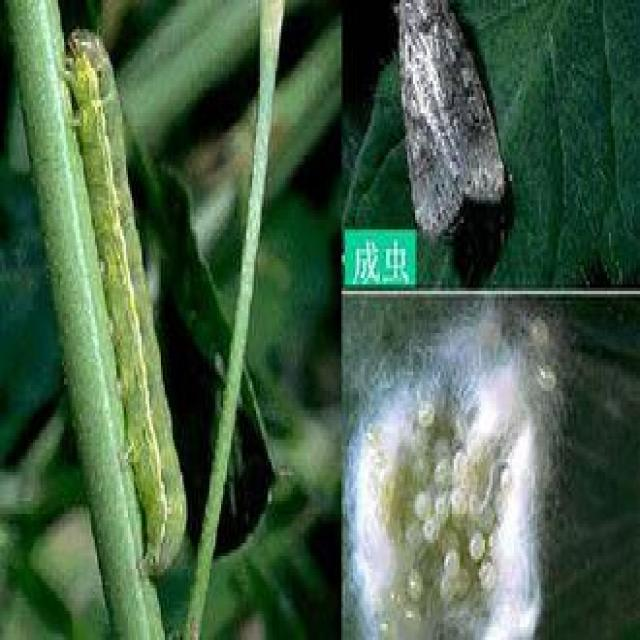BeetArmyWorm-Larva-: (56, 15, 192, 578)
